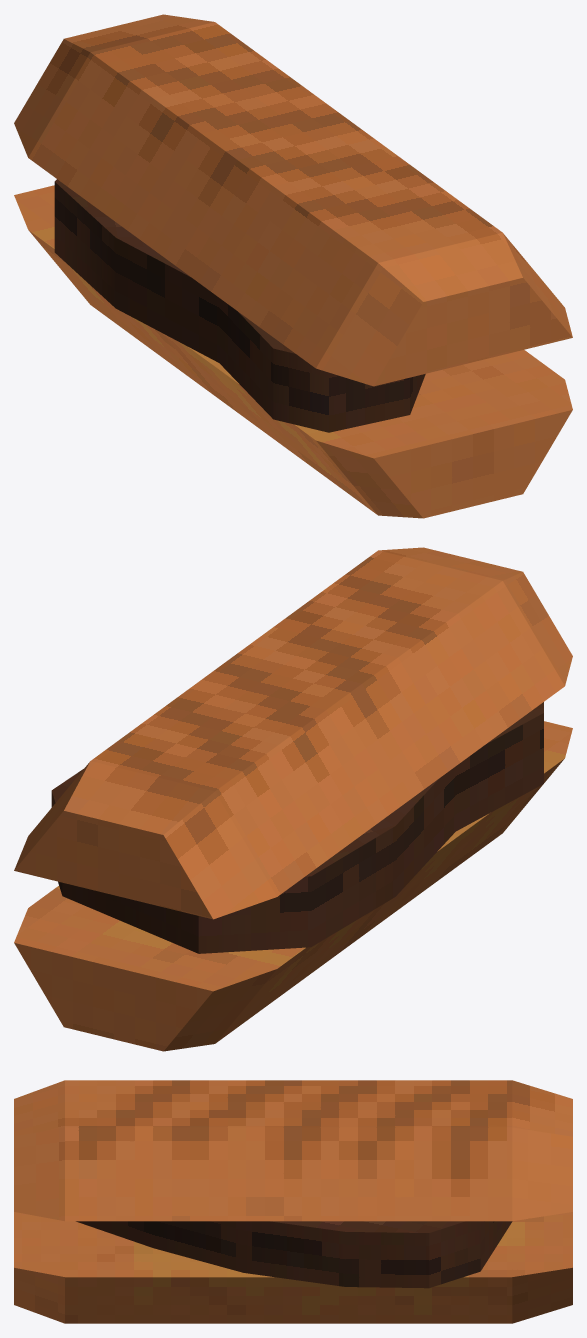
Rendered from Bread_Steak.obj.
3 renders of one model, top to bottom at view 1: azimuth 30°, elevation 25°; view 2: azimuth 150°, elevation 25°; view 3: azimuth 270°, elevation 25°, orthographic. The views are drawn at different scales.
Visible parts, largest first — view 1: pCylinder29; view 2: pCylinder29; view 3: pCylinder29.
Boxes of the visible parts, <box> form: pCylinder29: <box>14,14,572,518</box>; pCylinder29: <box>14,547,572,1051</box>; pCylinder29: <box>14,1080,572,1323</box>.
Size of the model in its own units: 0.3067 by 0.2514 by 0.6489.
Materials: 2 (2 with a texture image).
